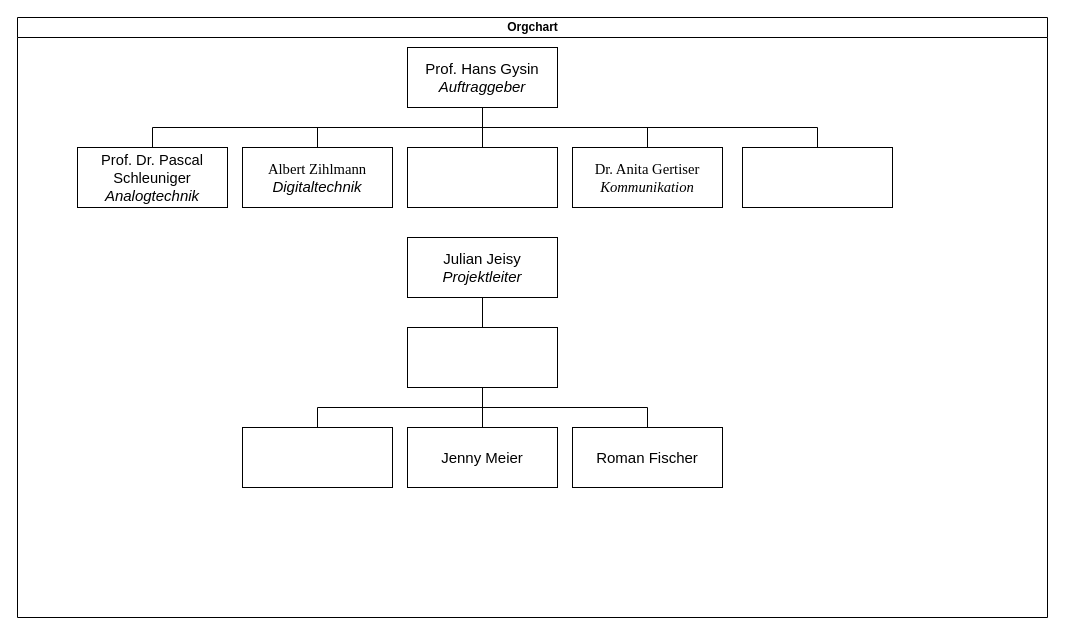
Some shapes in this 1065 by 635 pixel diagram are drawn without their labels. Here are the shapes that lost their labels. From the top down, the centre of each, then its label:
At point (482, 177): "Pascal Buchschacher Projektmanagement".
At point (817, 177): "Marie-Thérèse Rudolf von Rohr Englisch".
At point (482, 357): "Reto Gärtner Projektleiter Stv.".
At point (317, 457): "Silvan Burkard".
